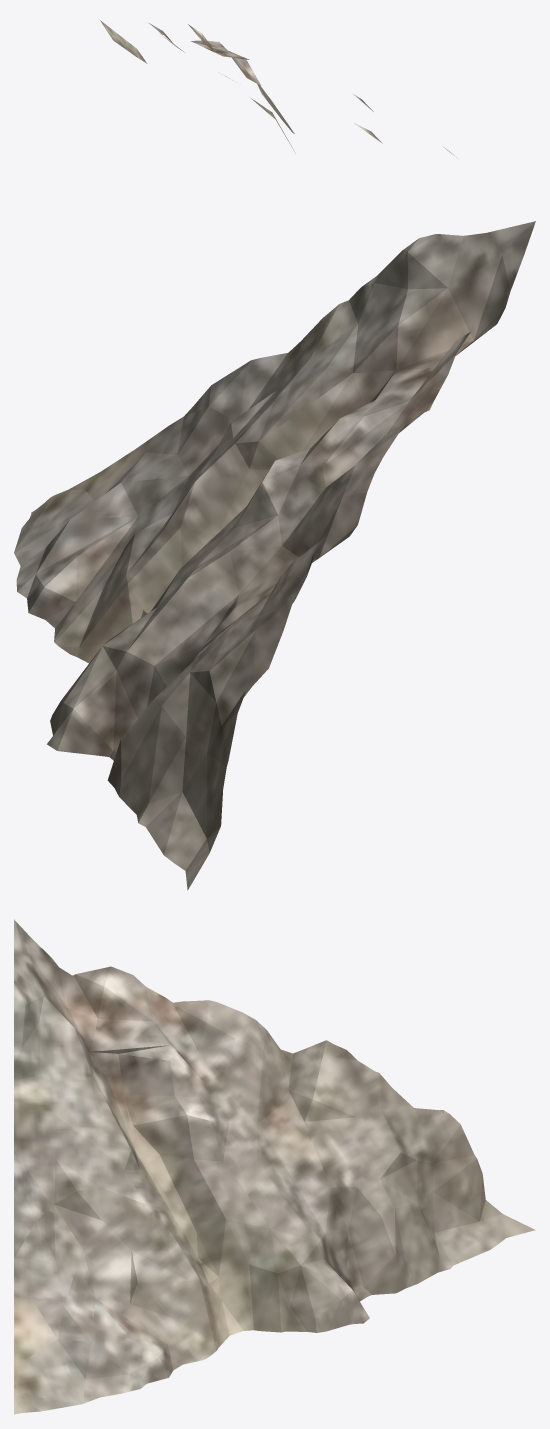
3 views of the same model, one above another, from view 1: azimuth 30°, elevation 25°; view 2: azimuth 150°, elevation 25°; view 3: azimuth 270°, elevation 25° (orthographic). The views are drawn at different scales.
Bounding box in the file's own units: 1.19 × 0.9336 × 1.42.
Materials: 1 (1 with a texture image).
